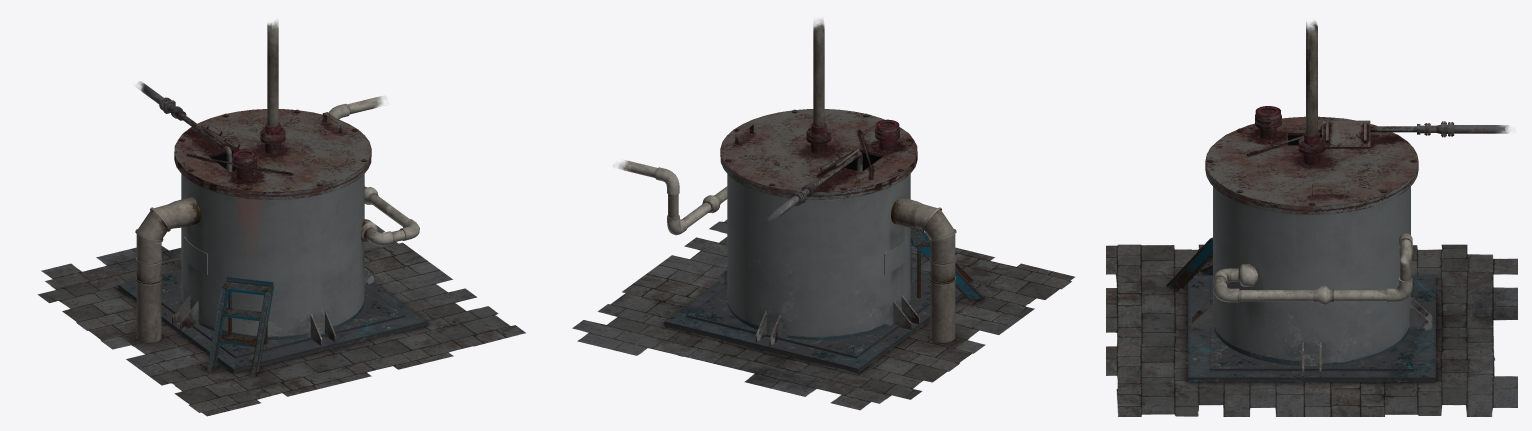
File: rusted_factory_machine.glb
3 renders of one model, left to right at view 1: azimuth 30°, elevation 25°; view 2: azimuth 150°, elevation 25°; view 3: azimuth 270°, elevation 25°, orthographic. The views are drawn at different scales.
Visible parts, largest first — view 1: Tank, Ground, Pipes; view 2: Tank, Ground, Pipes; view 3: Ground, Tank, Pipes.
Boxes of the visible parts, x1,y1,x2,y2 form: Tank: (172,109,373,345); Ground: (37,224,525,416); Pipes: (135,21,419,342); Tank: (718,109,919,345); Ground: (572,219,1074,410); Pipes: (618,19,956,342); Ground: (1106,237,1517,416); Tank: (1191,116,1432,377); Pipes: (1213,21,1509,304).
Bounding box in the file's own units: 1.98 × 1.69 × 2.
Materials: 3 (3 with a texture image).
